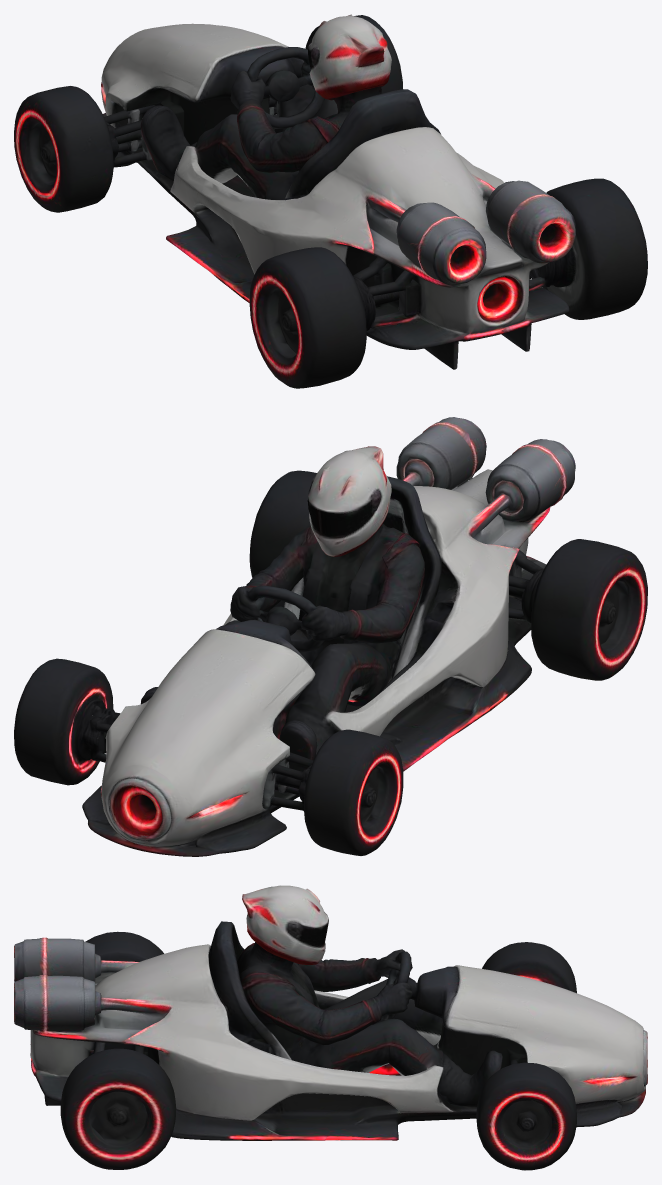
The model's file is nexus-final.glb.
3 views of the same model, one above another, from view 1: azimuth 30°, elevation 25°; view 2: azimuth 150°, elevation 25°; view 3: azimuth 270°, elevation 25° (orthographic). The views are drawn at different scales.
Visible parts, largest first — view 1: chassis, wheel-rl, wheel-fl, wheel-rr, wheel-fr; view 2: chassis, wheel-rl, wheel-fl, wheel-fr, wheel-rr; view 3: chassis, wheel-rr, wheel-fr, wheel-fl, wheel-rl.
Part boxes in pixels (x1,y1,x2,y2): chassis: (101, 14, 575, 369); wheel-rl: (249, 247, 366, 388); wheel-fl: (14, 86, 113, 212); wheel-rr: (543, 178, 647, 319); wheel-fr: (305, 15, 402, 93); chassis: (82, 417, 575, 856); wheel-rl: (531, 539, 647, 680); wheel-fl: (304, 729, 403, 855); wheel-fr: (14, 658, 113, 785); wheel-rr: (249, 470, 316, 577); chassis: (14, 885, 647, 1140); wheel-rr: (60, 1048, 176, 1169); wheel-fr: (476, 1062, 576, 1170); wheel-fl: (482, 942, 576, 993); wheel-rl: (85, 931, 163, 983).
Size of the model in its own units: 2.39 by 1.69 by 4.5.
Materials: 1 (1 with a texture image).
